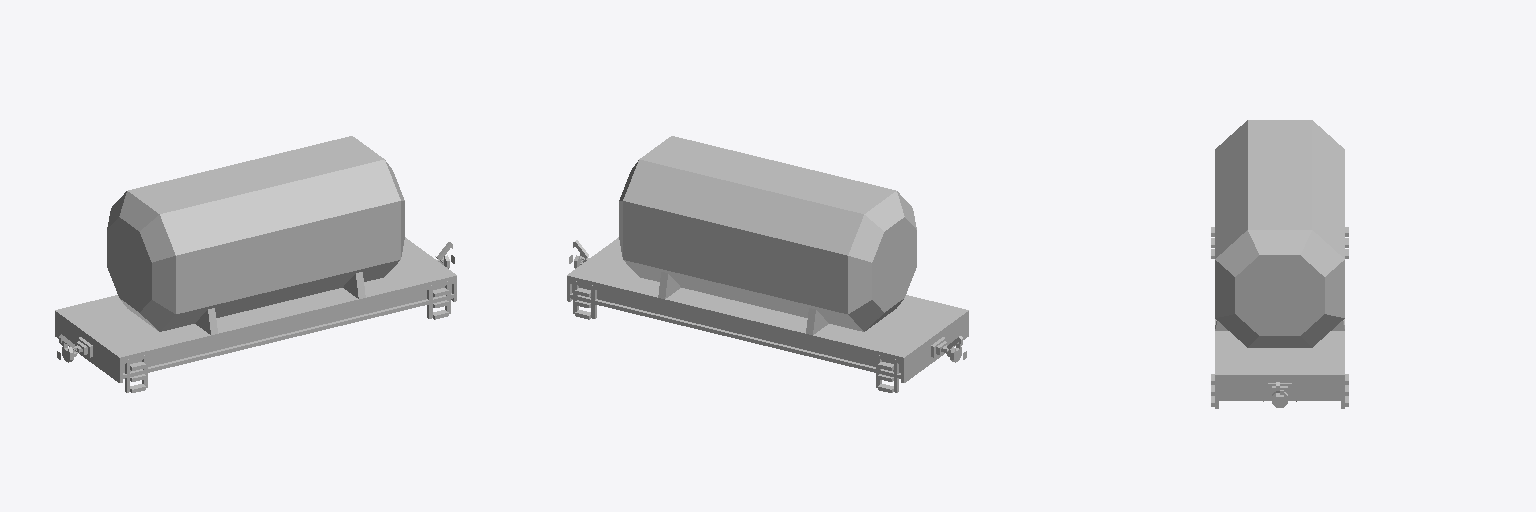
File: kitsune_stormpeak_tanker.obj
3 renders of one model, left to right at view 1: azimuth 30°, elevation 25°; view 2: azimuth 150°, elevation 25°; view 3: azimuth 270°, elevation 25°, orthographic.
Visible parts, largest first — view 1: FRAME.tank_Cube.013, FRAME_Cube.068, FRAME.001_Cube.057, FRAME_cab_Cube.056, FRAME_cab.001_Cube.054; view 2: FRAME.tank_Cube.013, FRAME_Cube.068, FRAME.001_Cube.057, FRAME_cab_Cube.056, FRAME_cab.001_Cube.054; view 3: FRAME.tank_Cube.013, FRAME_cab.001_Cube.054, FRAME.001_Cube.057.
Part boxes in pixels (left/top/right/bottom): FRAME.tank_Cube.013: left=107, top=136, right=404, bottom=334; FRAME_Cube.068: left=89, top=295, right=287, bottom=371; FRAME.001_Cube.057: left=273, top=264, right=423, bottom=338; FRAME_cab_Cube.056: left=55, top=302, right=152, bottom=392; FRAME_cab.001_Cube.054: left=398, top=237, right=456, bottom=319; FRAME.tank_Cube.013: left=619, top=136, right=916, bottom=334; FRAME_Cube.068: left=736, top=295, right=934, bottom=371; FRAME.001_Cube.057: left=600, top=264, right=750, bottom=338; FRAME_cab_Cube.056: left=871, top=302, right=968, bottom=392; FRAME_cab.001_Cube.054: left=567, top=237, right=625, bottom=319; FRAME.tank_Cube.013: left=1215, top=120, right=1344, bottom=347; FRAME_cab.001_Cube.054: left=1211, top=359, right=1348, bottom=408; FRAME.001_Cube.057: left=1215, top=319, right=1344, bottom=358.
Size of the model in its own units: 7 by 2.75 by 2.12.